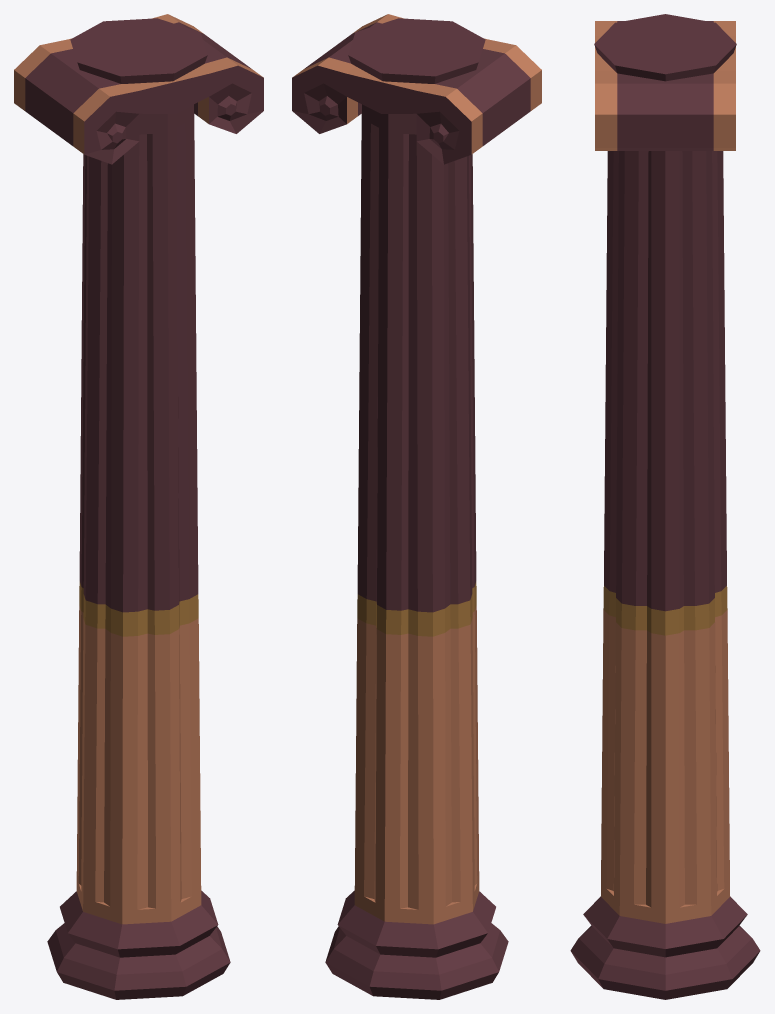
File: SM_Pillar_Ionic_Big_Color_Empire.fbx
3 renders of one model, left to right at view 1: azimuth 30°, elevation 25°; view 2: azimuth 150°, elevation 25°; view 3: azimuth 270°, elevation 25°, orthographic.
Visible parts, largest first — view 1: SM_Pillar_Ionic_Big_Color_Empire; view 2: SM_Pillar_Ionic_Big_Color_Empire; view 3: SM_Pillar_Ionic_Big_Color_Empire.
Part boxes in pixels (x1=…): SM_Pillar_Ionic_Big_Color_Empire: x1=14, y1=14, x2=263, y2=999; SM_Pillar_Ionic_Big_Color_Empire: x1=292, y1=14, x2=541, y2=999; SM_Pillar_Ionic_Big_Color_Empire: x1=570, y1=14, x2=760, y2=999.
Bounding box in the file's own units: 2.05 × 10.01 × 1.88.
